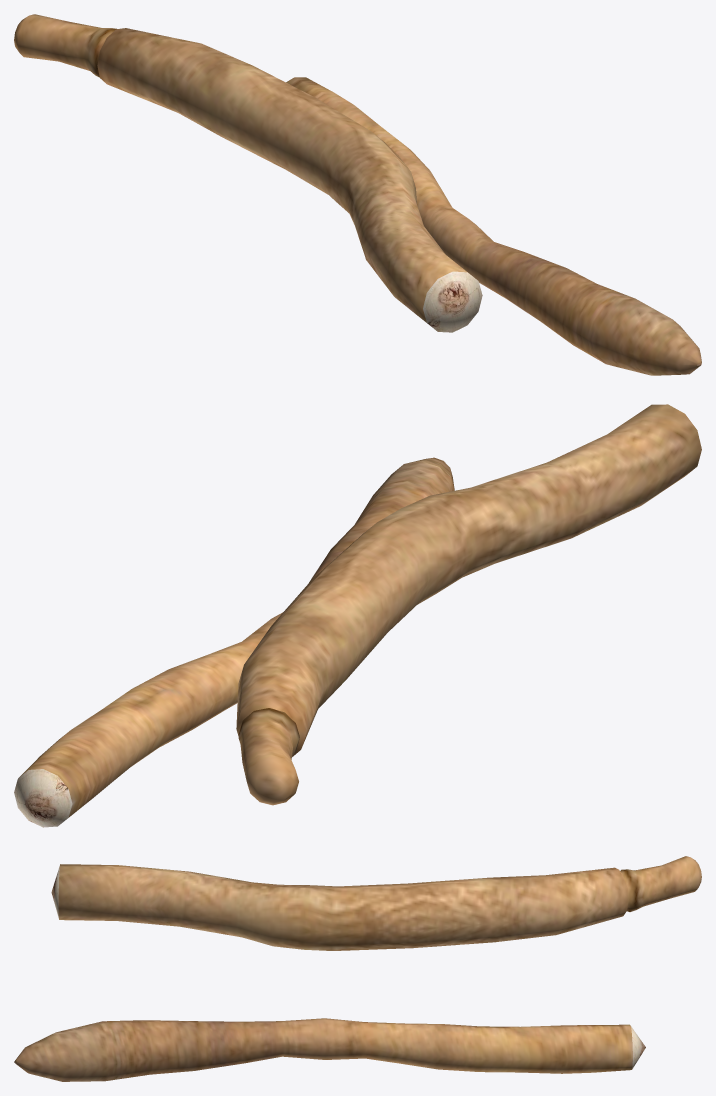
Rendered from baibu.FBX.
3 renders of one model, top to bottom at view 1: azimuth 30°, elevation 25°; view 2: azimuth 150°, elevation 25°; view 3: azimuth 270°, elevation 25°, orthographic. The views are drawn at different scales.
Parts seen in each view (by area): view 1: Cylinder001, Cylinder002; view 2: Cylinder001, Cylinder002; view 3: Cylinder001, Cylinder002.
Boxes of the visible parts, x1=… form: Cylinder001: x1=14, y1=14, x2=482, y2=332; Cylinder002: x1=286, y1=77, x2=701, y2=375; Cylinder001: x1=236, y1=404, x2=701, y2=805; Cylinder002: x1=14, y1=457, x2=454, y2=827; Cylinder001: x1=51, y1=856, x2=701, y2=950; Cylinder002: x1=14, y1=1018, x2=645, y2=1081.
Size of the model in its own units: 22.23 by 11.82 by 53.81.
Materials: 1 (1 with a texture image).
